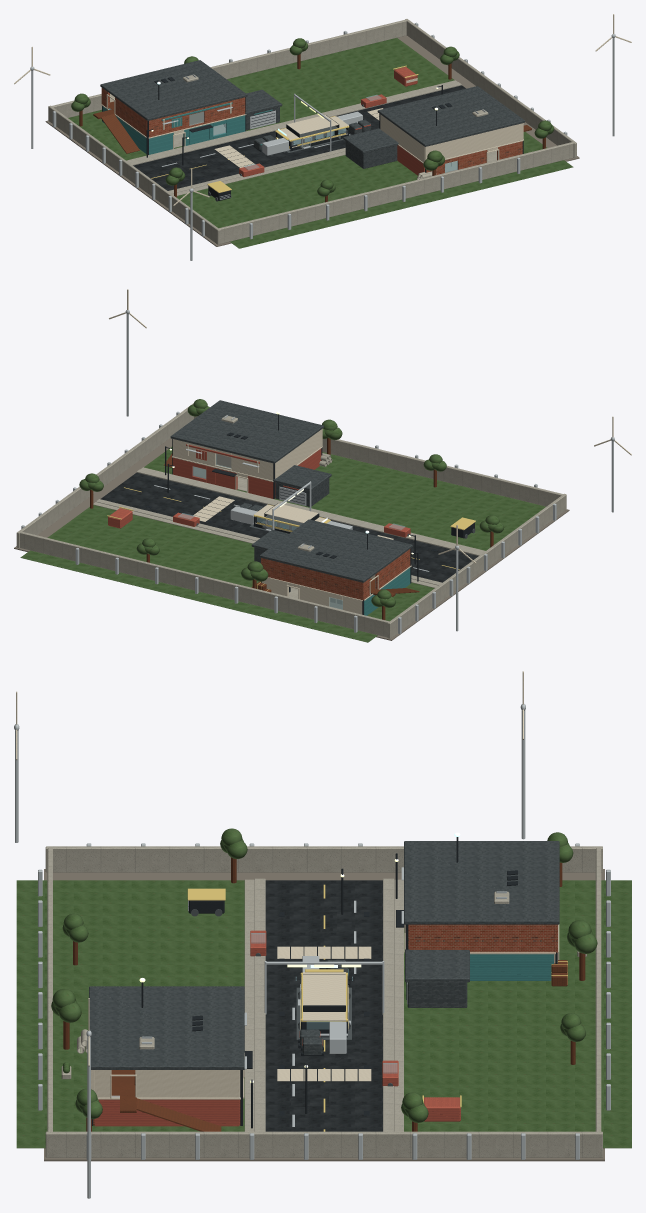
The model's file is atomic-acres-blender-arena.glb.
3 views of the same model, one above another, from view 1: azimuth 30°, elevation 25°; view 2: azimuth 150°, elevation 25°; view 3: azimuth 270°, elevation 25° (orthographic). The views are drawn at different scales.
Visible parts, largest first — view 1: BLD_BATCH_MAT_ground_olive, BLD_BATCH_MAT_boundary_warm_concrete, BLD_BATCH_MAT_roof_shingles, BLD_BATCH_MAT_asphalt_charcoal, BLD_BATCH_MAT_concrete_weathered, BLD_BATCH_MAT_brushed_alloy, BLD_BATCH_MAT_trim_bone, BLD_BATCH_MAT_coral_upper_plaster, BLD_BATCH_MAT_aqua_upper_brick, BLD_BATCH_MAT_foliage_military, BLD_BATCH_MAT_aqua_oxidized, BLD_BATCH_MAT_earth_edge (+9 smaller); view 2: BLD_BATCH_MAT_ground_olive, BLD_BATCH_MAT_boundary_warm_concrete, BLD_BATCH_MAT_roof_shingles, BLD_BATCH_MAT_asphalt_charcoal, BLD_BATCH_MAT_concrete_weathered, BLD_BATCH_MAT_brushed_alloy, BLD_BATCH_MAT_coral_oxide, BLD_BATCH_MAT_foliage_military, BLD_BATCH_MAT_aqua_upper_brick, BLD_BATCH_MAT_trim_bone, BLD_BATCH_MAT_coral_upper_plaster, BLD_BATCH_MAT_earth_edge (+6 smaller); view 3: BLD_BATCH_MAT_ground_olive, BLD_BATCH_MAT_boundary_warm_concrete, BLD_BATCH_MAT_roof_shingles, BLD_BATCH_MAT_asphalt_charcoal, BLD_BATCH_MAT_concrete_weathered, BLD_BATCH_MAT_brushed_alloy, BLD_BATCH_MAT_trim_bone, BLD_BATCH_MAT_earth_edge, BLD_BATCH_MAT_foliage_military, BLD_BATCH_MAT_coral_oxide, BLD_BATCH_MAT_aqua_upper_brick, BLD_BATCH_MAT_coral_upper_plaster (+5 smaller).
Boxes of the visible parts, x1,y1,x2,y2 form: BLD_BATCH_MAT_ground_olive: [68, 38, 573, 248]; BLD_BATCH_MAT_boundary_warm_concrete: [48, 19, 576, 244]; BLD_BATCH_MAT_roof_shingles: [100, 60, 524, 153]; BLD_BATCH_MAT_asphalt_charcoal: [133, 85, 465, 190]; BLD_BATCH_MAT_concrete_weathered: [126, 80, 496, 195]; BLD_BATCH_MAT_brushed_alloy: [30, 22, 615, 260]; BLD_BATCH_MAT_trim_bone: [14, 14, 631, 205]; BLD_BATCH_MAT_coral_upper_plaster: [380, 114, 523, 162]; BLD_BATCH_MAT_aqua_upper_brick: [101, 88, 245, 137]; BLD_BATCH_MAT_foliage_military: [71, 38, 554, 196]; BLD_BATCH_MAT_aqua_oxidized: [149, 102, 339, 154]; BLD_BATCH_MAT_earth_edge: [45, 35, 579, 246]; BLD_BATCH_MAT_ground_olive: [20, 447, 545, 642]; BLD_BATCH_MAT_boundary_warm_concrete: [16, 403, 566, 638]; BLD_BATCH_MAT_roof_shingles: [170, 400, 412, 582]; BLD_BATCH_MAT_asphalt_charcoal: [100, 472, 478, 582]; BLD_BATCH_MAT_concrete_weathered: [93, 453, 485, 608]; BLD_BATCH_MAT_brushed_alloy: [21, 310, 614, 633]; BLD_BATCH_MAT_coral_oxide: [108, 444, 410, 537]; BLD_BATCH_MAT_foliage_military: [79, 399, 504, 607]; BLD_BATCH_MAT_aqua_upper_brick: [261, 549, 410, 600]; BLD_BATCH_MAT_trim_bone: [109, 289, 631, 604]; BLD_BATCH_MAT_coral_upper_plaster: [173, 429, 322, 480]; BLD_BATCH_MAT_earth_edge: [14, 438, 569, 640]; BLD_BATCH_MAT_ground_olive: [16, 880, 631, 1148]; BLD_BATCH_MAT_boundary_warm_concrete: [45, 846, 602, 1157]; BLD_BATCH_MAT_roof_shingles: [89, 841, 559, 1069]; BLD_BATCH_MAT_asphalt_charcoal: [265, 880, 382, 1131]; BLD_BATCH_MAT_concrete_weathered: [61, 878, 586, 1131]; BLD_BATCH_MAT_brushed_alloy: [14, 704, 610, 1198]; BLD_BATCH_MAT_trim_bone: [16, 671, 559, 1099]; BLD_BATCH_MAT_earth_edge: [44, 869, 604, 1161]; BLD_BATCH_MAT_foliage_military: [51, 828, 597, 1122]; BLD_BATCH_MAT_coral_oxide: [94, 930, 460, 1126]; BLD_BATCH_MAT_aqua_upper_brick: [408, 924, 557, 952]; BLD_BATCH_MAT_coral_upper_plaster: [91, 1070, 240, 1097].
Bounding box in the file's own units: 102 × 24.53 × 68.3.
Materials: 28 (20 with a texture image).
